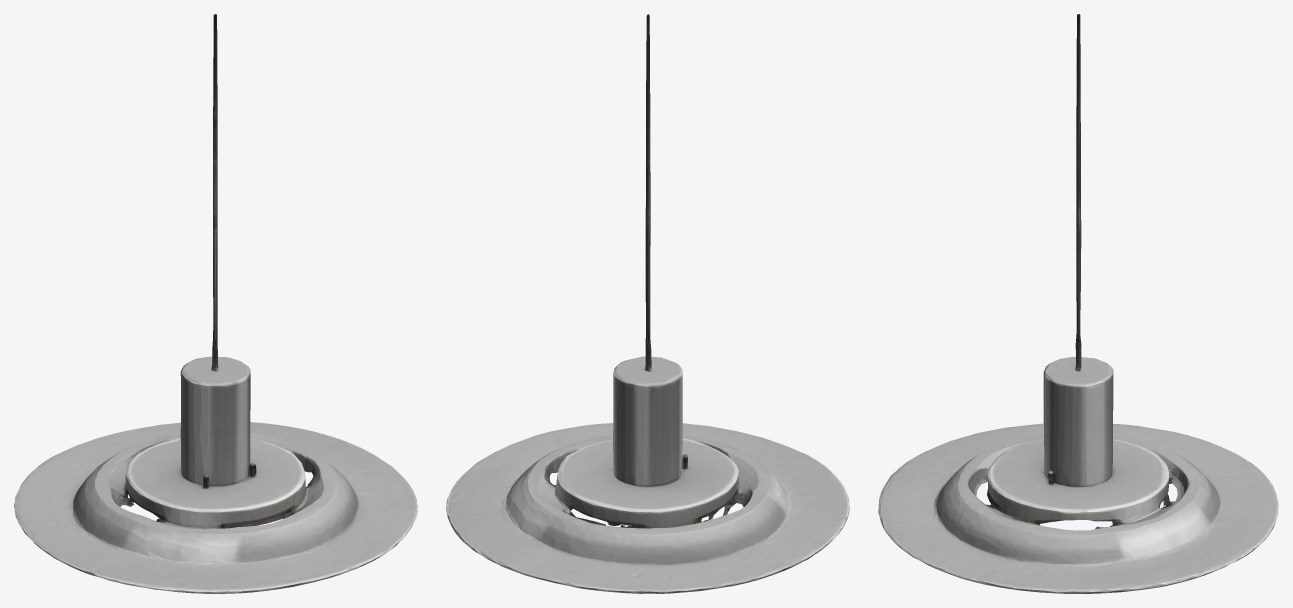
The model's file is ast_c26b4f2fe8b3.glb.
3 views of the same model, side by side, from view 1: azimuth 30°, elevation 25°; view 2: azimuth 150°, elevation 25°; view 3: azimuth 270°, elevation 25° (orthographic).
Parts seen in each view (by area): view 1: geometry_0; view 2: geometry_0; view 3: geometry_0.
Part boxes in pixels (x1,y1,x2,y2): geometry_0: [14, 14, 417, 593]; geometry_0: [446, 14, 849, 593]; geometry_0: [878, 14, 1278, 593].
Bounding box in the file's own units: 0.6679 × 1 × 0.6673.
Materials: 1 (1 with a texture image).
